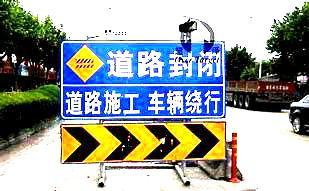sign: (61, 41, 223, 160)
